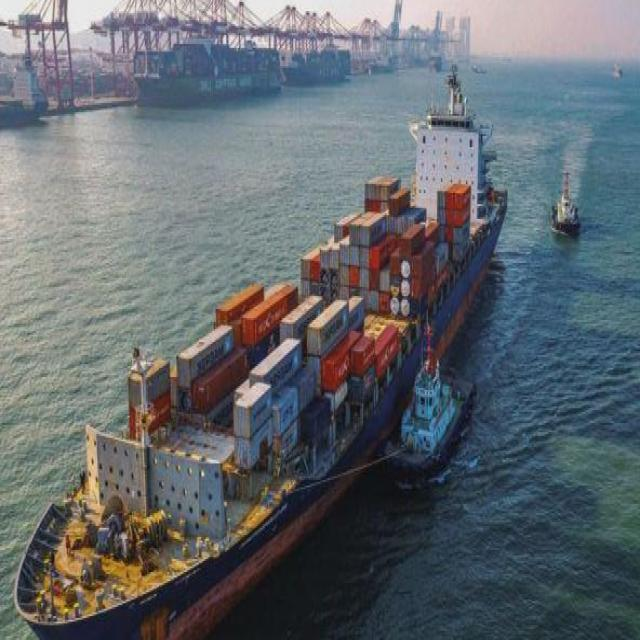cargoship: (13, 68, 504, 638), (390, 332, 482, 486), (547, 163, 587, 250)
